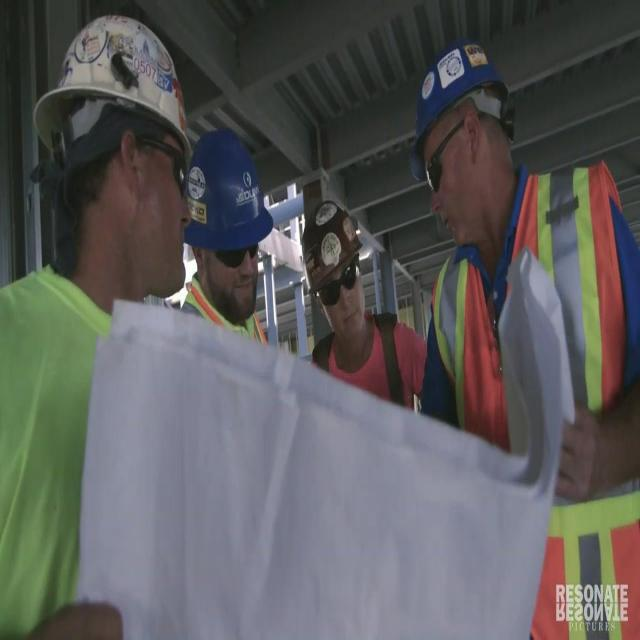vest: (431, 156, 639, 636), (182, 275, 270, 344)
